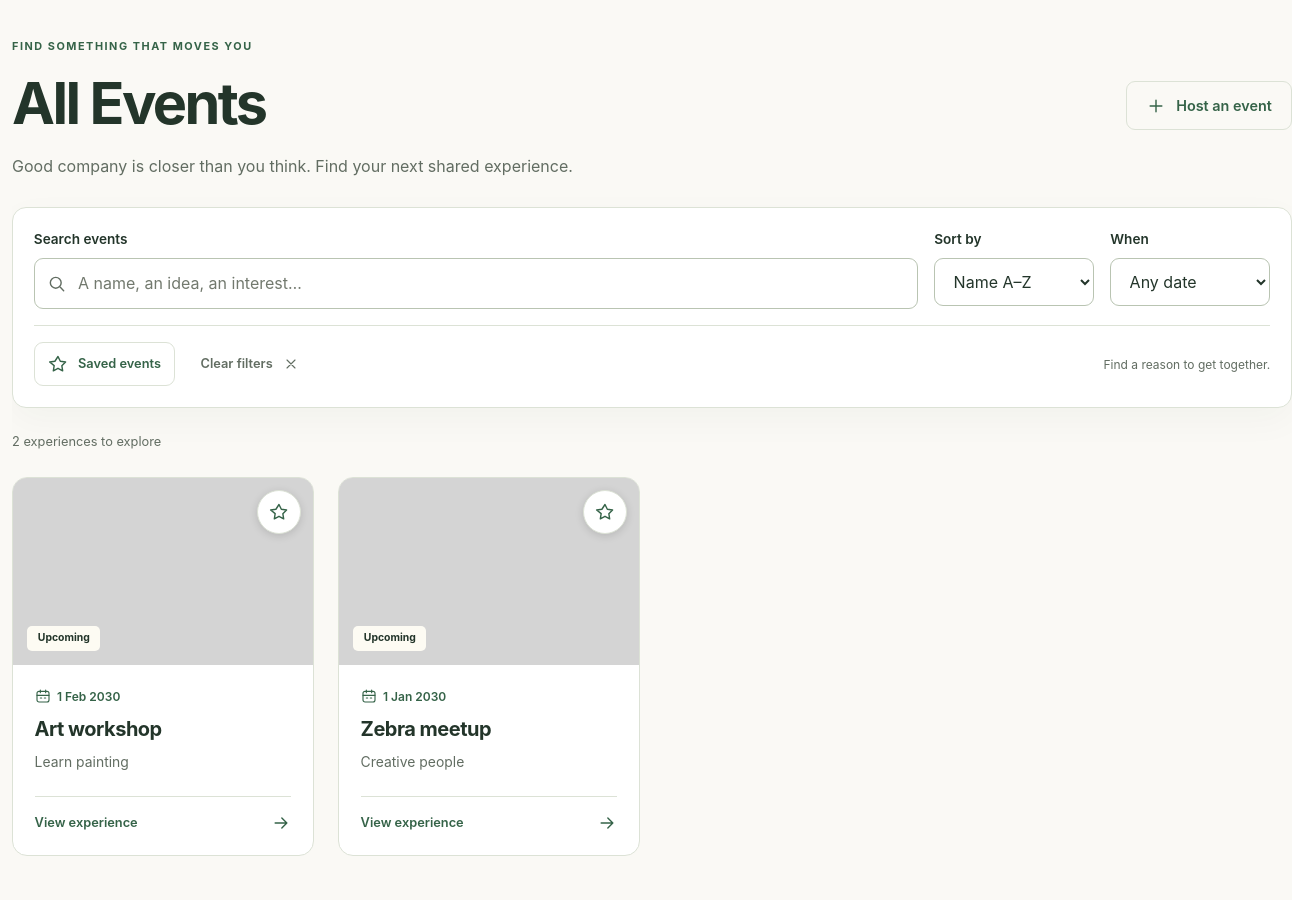
resets a sorting-only selection through the clear filters action
Click the button "Clear filters": (250, 364) [187,342,313,386]
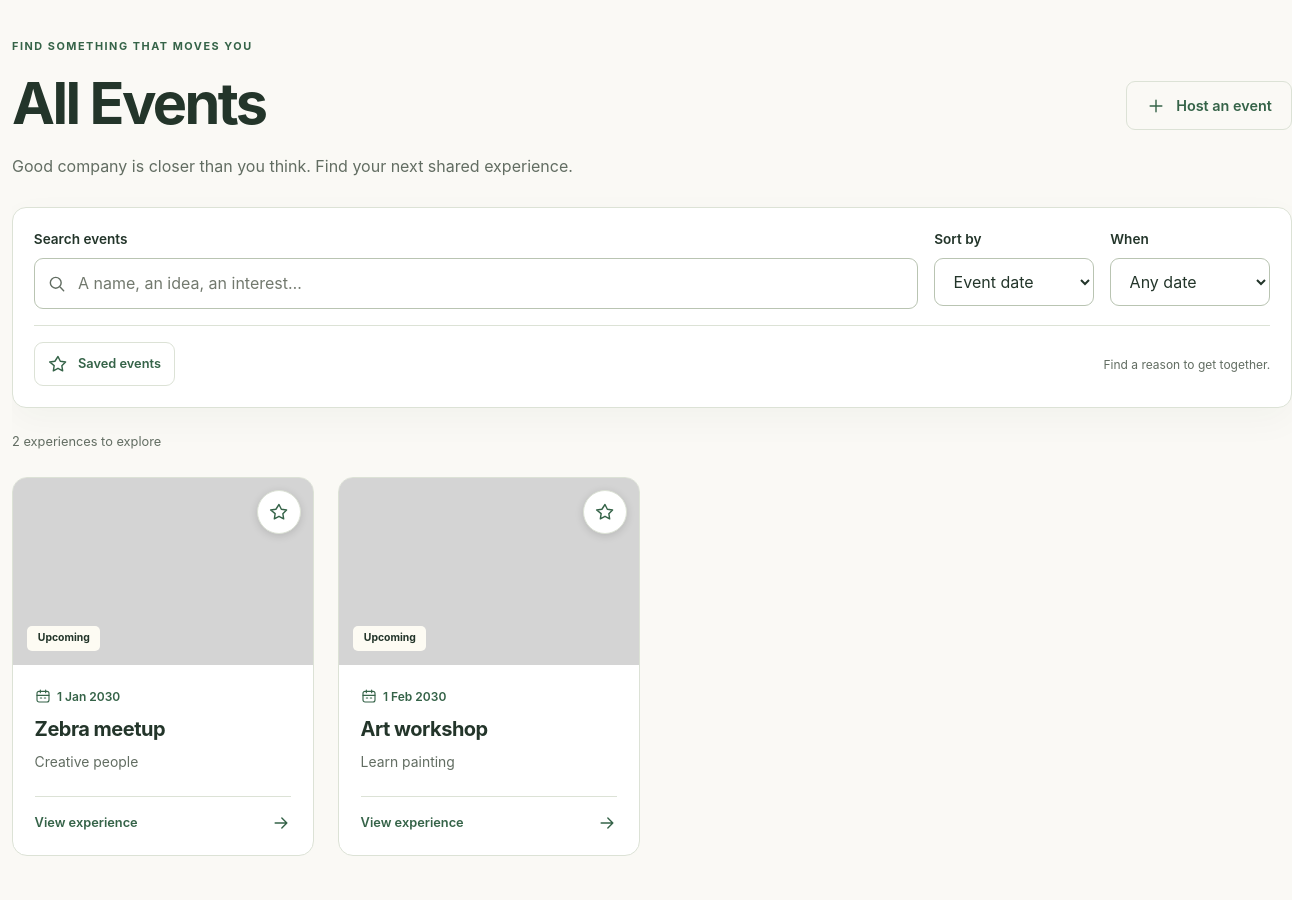
Check: the dropdown labelled "Sort by" shows "Event date", box [934,258,1094,306]
Check: the headings read "Zebra meetup", "Art workshop", in this order, box [35,717,165,741]; [361,717,488,741]
Check: the button "Clear filters" is gone
